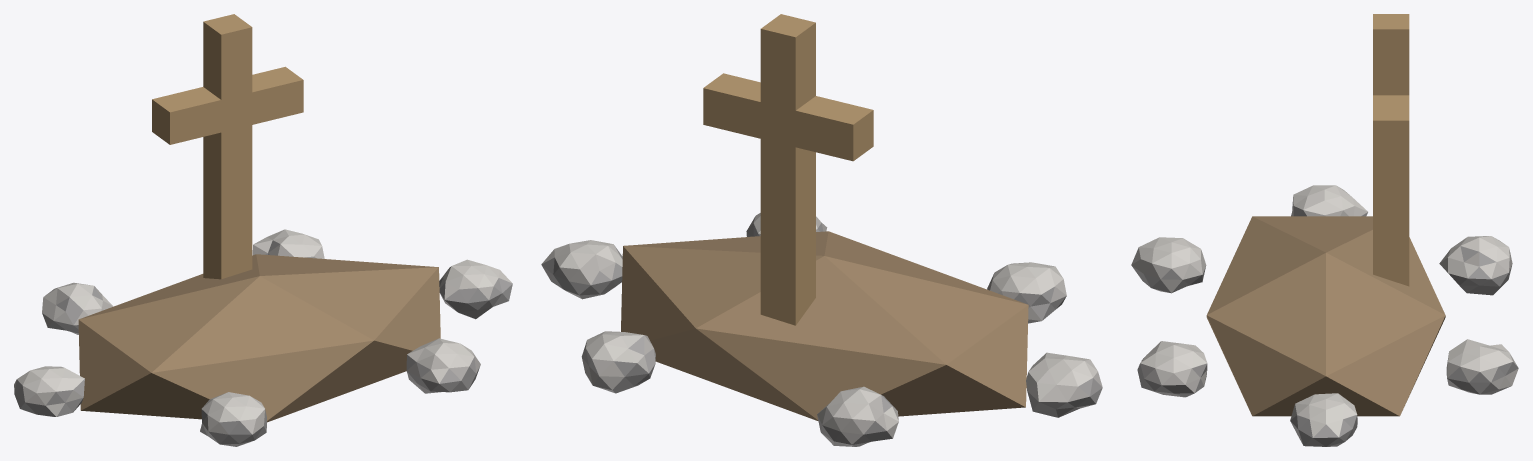
File: GraveCross.glb
3 renders of one model, left to right at view 1: azimuth 30°, elevation 25°; view 2: azimuth 150°, elevation 25°; view 3: azimuth 270°, elevation 25°, orthographic. The views are drawn at different scales.
Parts seen in each view (by area): view 1: GraveCross_Mound, GraveCross_Post, GraveCross_Arm, GraveCross_Stone.005, GraveCross_Stone, GraveCross_Stone.003, GraveCross_Stone.004, GraveCross_Stone.002, GraveCross_Stone.001; view 2: GraveCross_Mound, GraveCross_Post, GraveCross_Arm, GraveCross_Stone.003, GraveCross_Stone.002, GraveCross_Stone.001, GraveCross_Stone, GraveCross_Stone.004; view 3: GraveCross_Mound, GraveCross_Post, GraveCross_Stone.002, GraveCross_Stone.004, GraveCross_Stone.001, GraveCross_Stone.005, GraveCross_Stone, GraveCross_Arm, GraveCross_Stone.003.
Boxes of the visible parts, bbox=[...] form: GraveCross_Mound: bbox=[78, 254, 440, 422]; GraveCross_Post: bbox=[203, 14, 252, 279]; GraveCross_Arm: bbox=[152, 66, 303, 144]; GraveCross_Stone.005: bbox=[406, 338, 480, 393]; GraveCross_Stone: bbox=[439, 259, 512, 319]; GraveCross_Stone.003: bbox=[14, 366, 84, 416]; GraveCross_Stone.004: bbox=[200, 392, 266, 446]; GraveCross_Stone.002: bbox=[42, 282, 113, 334]; GraveCross_Stone.001: bbox=[252, 229, 324, 258]; GraveCross_Mound: bbox=[621, 231, 1028, 420]; GraveCross_Post: bbox=[760, 14, 815, 325]; GraveCross_Arm: bbox=[703, 73, 873, 161]; GraveCross_Stone.003: bbox=[1026, 352, 1102, 417]; GraveCross_Stone.002: bbox=[817, 386, 898, 446]; GraveCross_Stone.001: bbox=[581, 331, 655, 393]; GraveCross_Stone: bbox=[541, 240, 622, 299]; GraveCross_Stone.004: bbox=[987, 262, 1066, 323]; GraveCross_Mound: bbox=[1206, 216, 1445, 416]; GraveCross_Post: bbox=[1373, 14, 1409, 286]; GraveCross_Stone.002: bbox=[1439, 236, 1512, 295]; GraveCross_Stone.004: bbox=[1131, 237, 1206, 293]; GraveCross_Stone.001: bbox=[1446, 339, 1518, 394]; GraveCross_Stone.005: bbox=[1137, 341, 1207, 397]; GraveCross_Stone: bbox=[1290, 393, 1357, 446]; GraveCross_Arm: bbox=[1373, 95, 1409, 153]; GraveCross_Stone.003: bbox=[1291, 185, 1367, 216].
Size of the model in its own units: 2.19 by 1.52 by 1.49.
